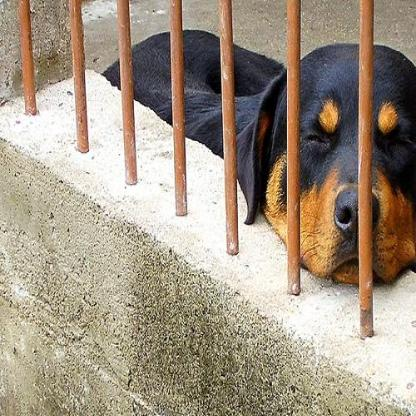Rottweiler: (95, 27, 413, 283)
